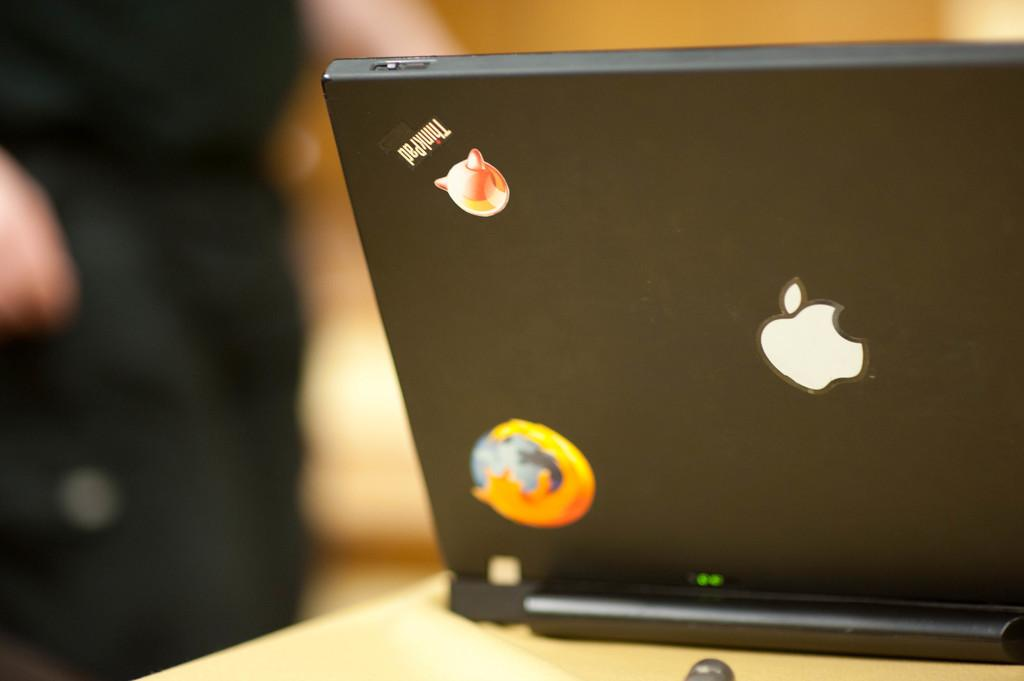Laptop: (267, 20, 993, 681)
